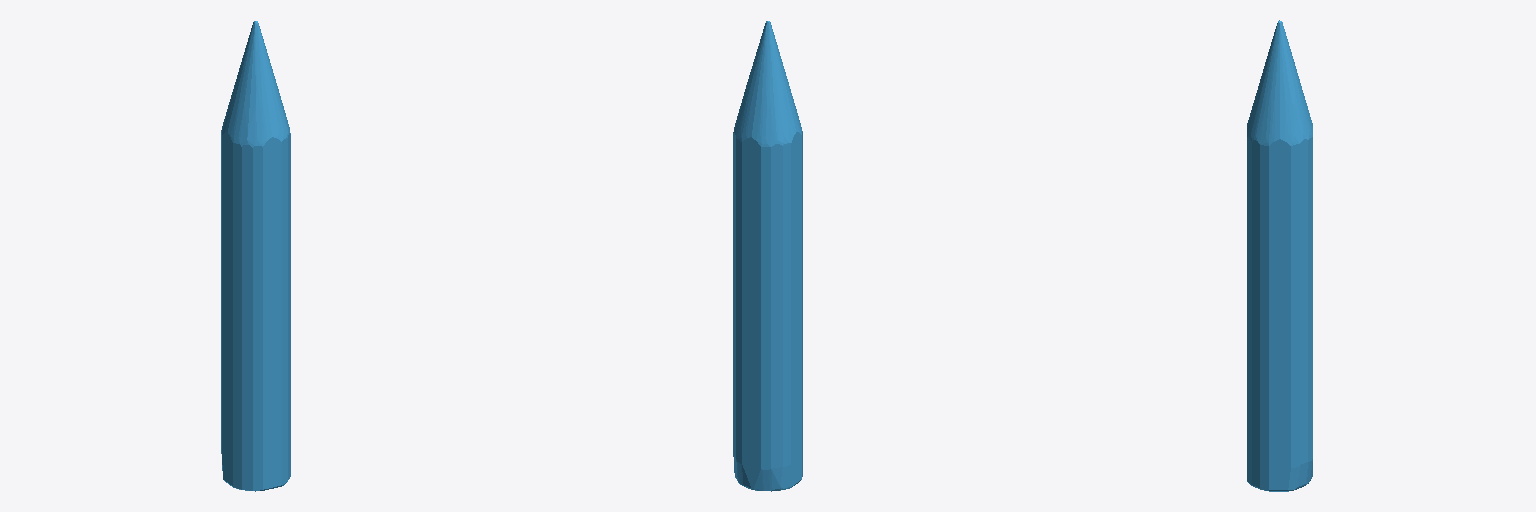
The robot description file, URDF, robot "sem-Pencil-370867e6cf6f4ef8b5f19880cadbe491":
<?xml version="1.0"?>
<robot name="sem-Pencil-370867e6cf6f4ef8b5f19880cadbe491">
  <link name="object_root"/>
  <link name="convex_piece_000">
    <visual><geometry><mesh filename="pieces/piece_000.obj"/></geometry></visual>
    <collision><geometry><mesh filename="pieces/piece_000.obj"/></geometry></collision>
  </link>
  <joint name="piece_joint_000" type="fixed">
    <parent link="object_root"/>
    <child link="convex_piece_000"/>
    <origin xyz="0 0 0" rpy="0 0 0"/>
  </joint>
</robot>

--- Render facts (derived) ---
3 views of the same robot in one strip: view 1: azimuth 30°, elevation 25°; view 2: azimuth 150°, elevation 25°; view 3: azimuth 270°, elevation 25° (orthographic).
Model sem-Pencil-370867e6cf6f4ef8b5f19880cadbe491 with 2 links and 1 joints (1 fixed), rooted at object_root, posed every joint at zero.
Links seen in each view (by area): view 1: convex_piece_000; view 2: convex_piece_000; view 3: convex_piece_000.
Link boxes in pixels (left/top/right/bottom): convex_piece_000: left=221, top=21, right=290, bottom=491; convex_piece_000: left=733, top=21, right=802, bottom=491; convex_piece_000: left=1247, top=20, right=1312, bottom=491.
Size in the robot's own frame: 0.0254 by 0.0254 by 0.1945 metres.
1 mesh visuals loaded from 1 distinct referenced files (1 OBJ).
